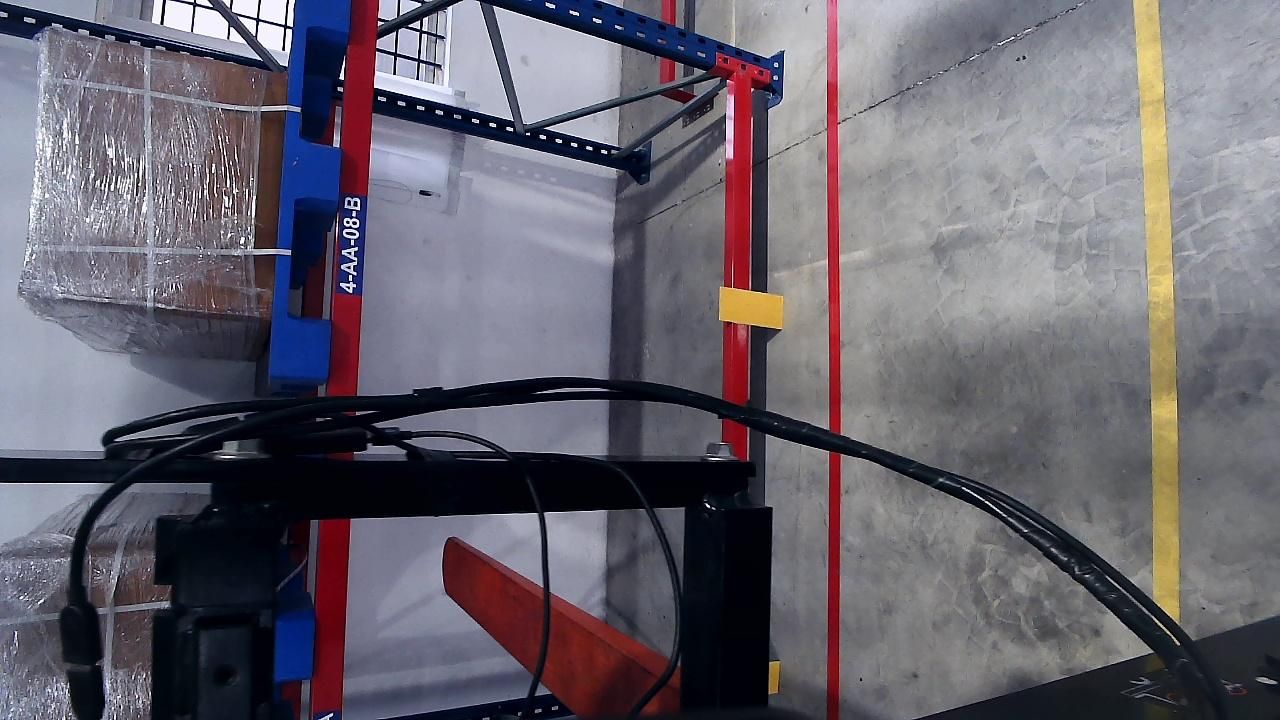h_rack: (324, 0, 382, 389), (728, 76, 757, 402)
orange_strip: (718, 285, 784, 328)
red_line: (822, 0, 844, 710)
yellow_line: (1135, 0, 1181, 595)
